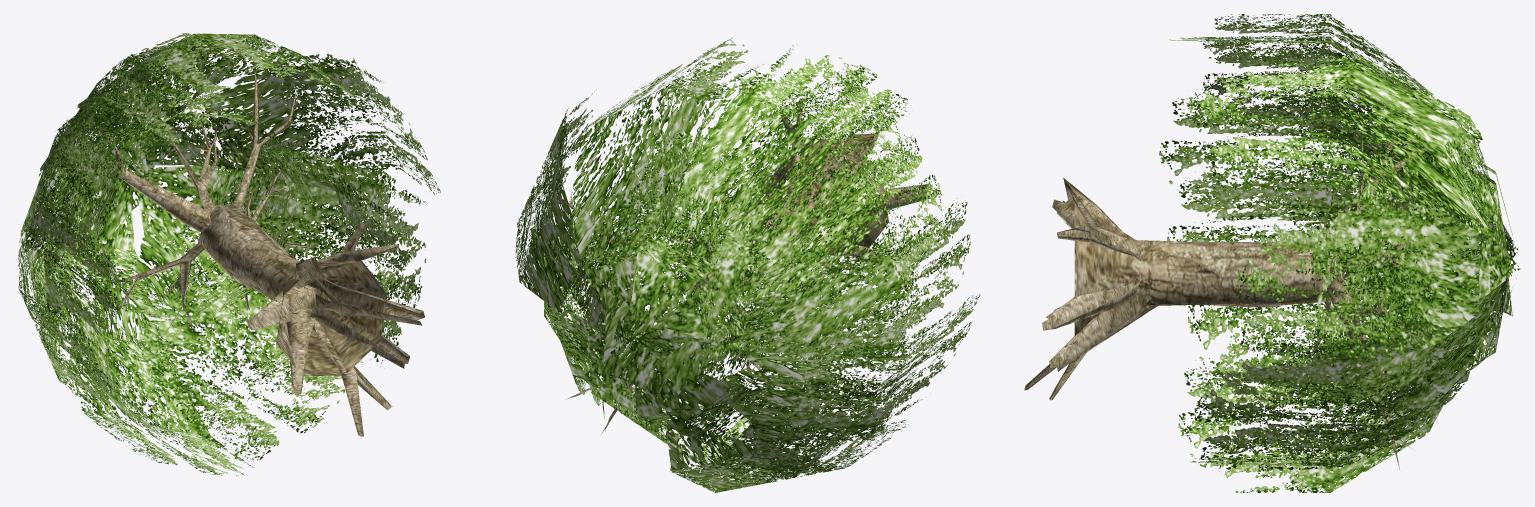
Rendered from willow_a.glb.
3 views of the same model, side by side, from view 1: azimuth 30°, elevation 25°; view 2: azimuth 150°, elevation 25°; view 3: azimuth 270°, elevation 25° (orthographic). The views are drawn at different scales.
Bounding box in the file's own units: 21.3 × 21.34 × 21.37.
1 material, 1 textured.
